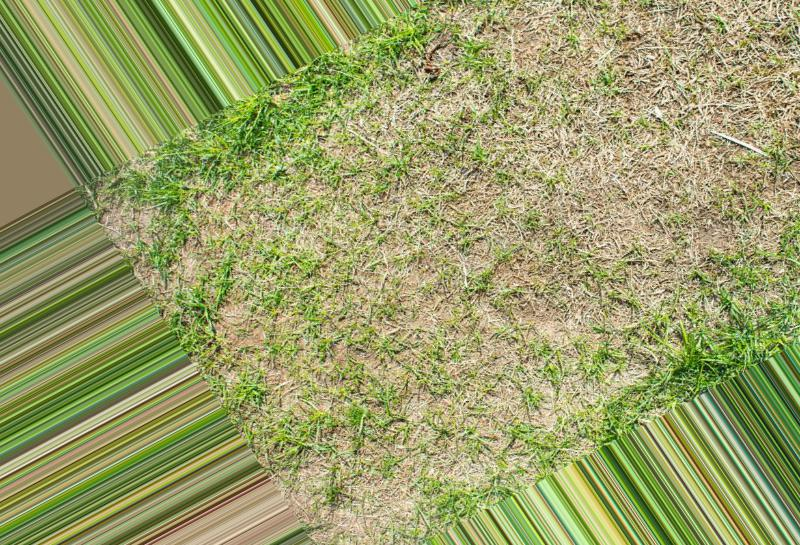patch: (559, 81, 672, 216), (636, 236, 727, 289), (530, 310, 613, 362), (439, 137, 503, 202), (416, 262, 471, 316), (369, 466, 419, 493), (324, 518, 369, 534)
